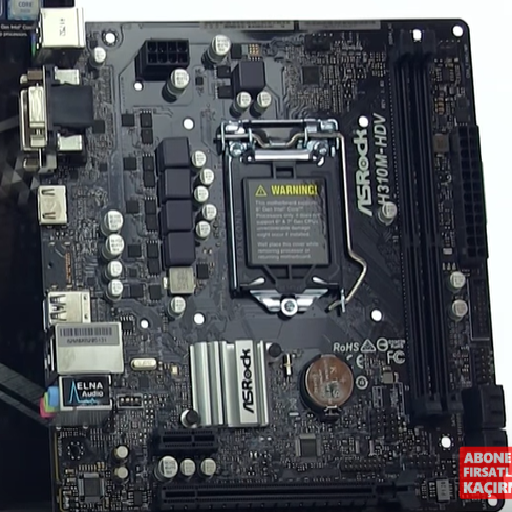CPU: (219, 118, 352, 314)
GPU: (157, 468, 421, 512)
MOTHERBOARD: (24, 9, 504, 512)
RAM: (386, 31, 463, 424)
